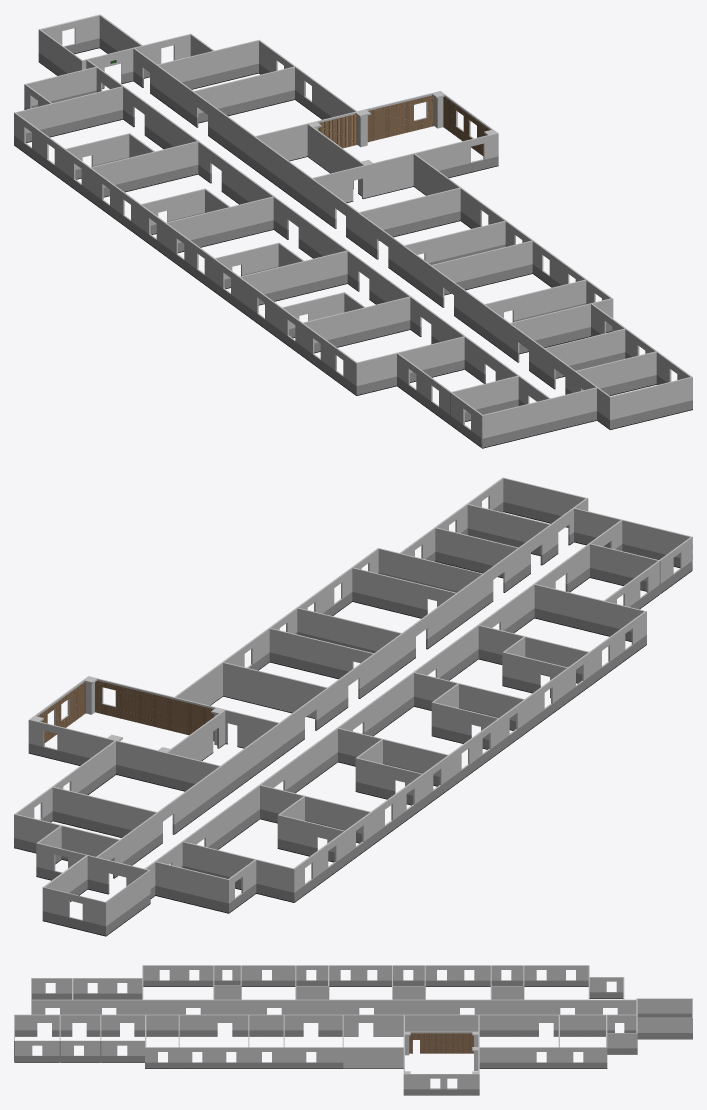
The picture shows the model from 3 angles, top to bottom: view 1: azimuth 30°, elevation 25°; view 2: azimuth 150°, elevation 25°; view 3: azimuth 270°, elevation 25°; orthographic projection. The views are drawn at different scales.
Visible parts, largest first — view 1: SM_墙体; view 2: SM_墙体; view 3: SM_墙体.
Part boxes in pixels (x1=…): SM_墙体: x1=14, y1=14, x2=692, y2=448; SM_墙体: x1=14, y1=477, x2=692, y2=936; SM_墙体: x1=14, y1=965, x2=692, y2=1095.
Bounding box in the file's own units: 34777 × 3191 × 91486.
